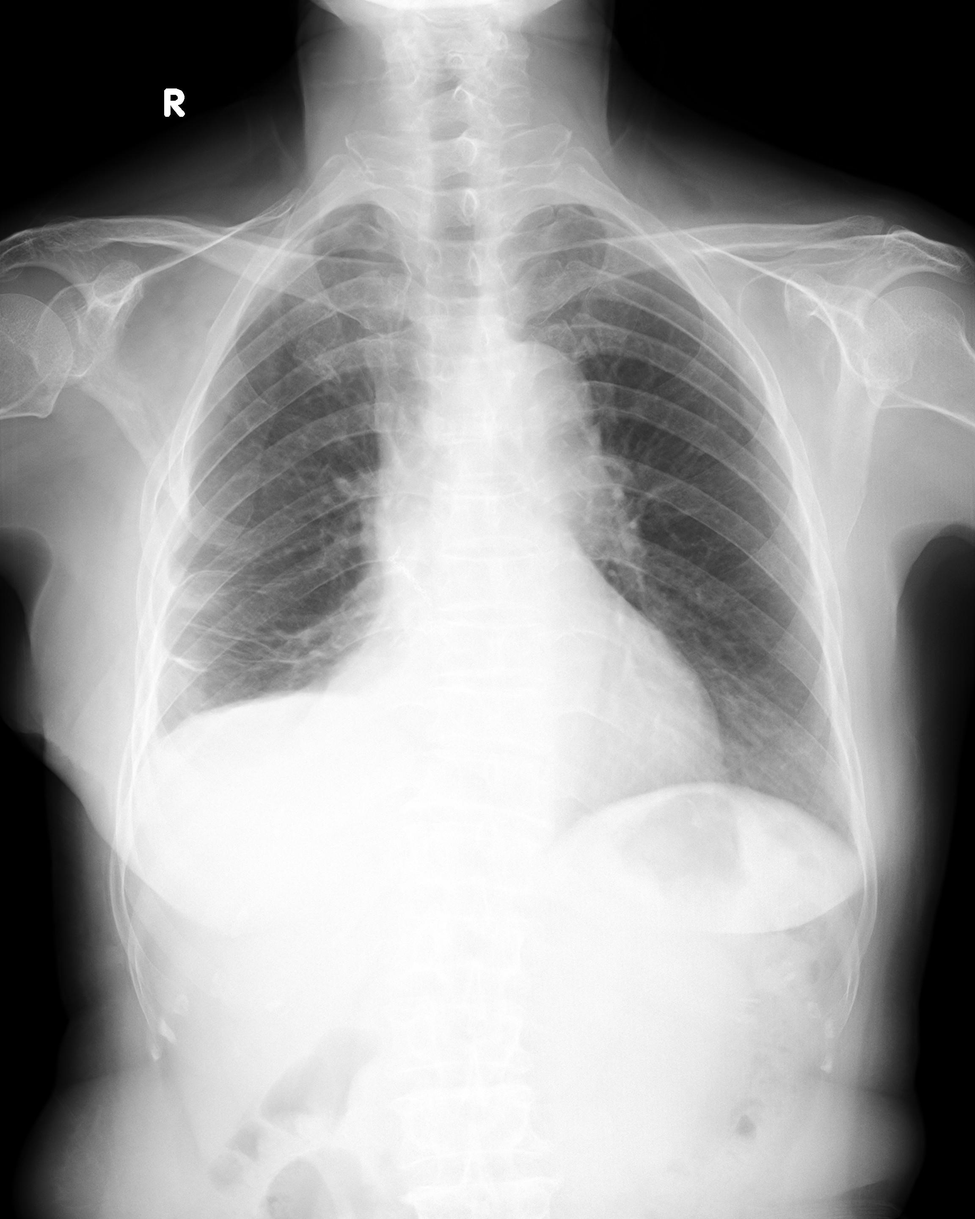Aortic enlargement: (466, 339, 599, 533)
Pulmonary fibrosis: (166, 609, 319, 673), (193, 567, 269, 595)
